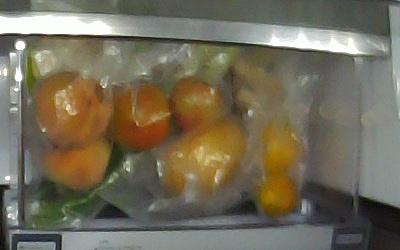peach_vinyl: (37, 69, 111, 143), (37, 138, 111, 192)
pear_vinyl: (161, 117, 245, 196)
tangerine_vinyl: (258, 125, 303, 173), (253, 170, 296, 220)
tomato_vinyl: (109, 85, 170, 152), (170, 76, 224, 131)
